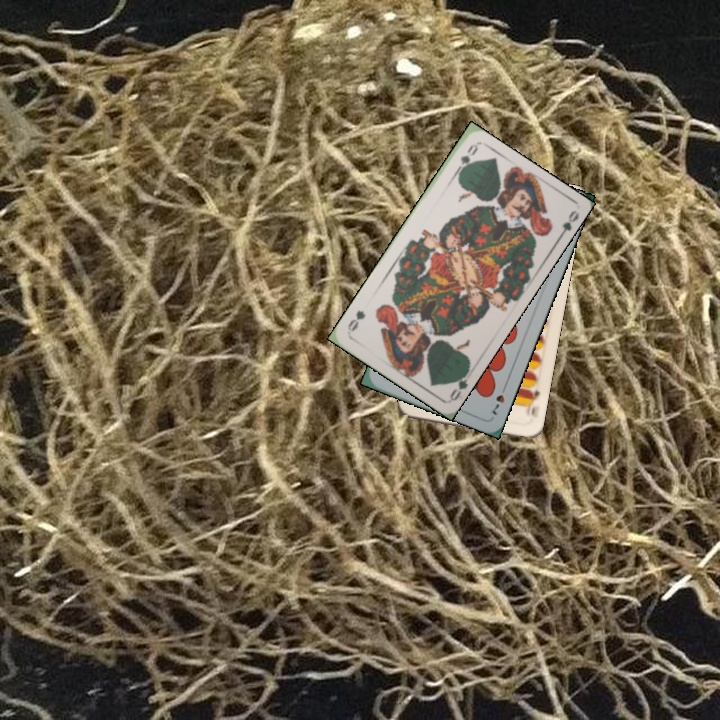E10: (522, 385, 542, 418)
GO: (450, 140, 480, 179), (446, 364, 473, 403)
H7: (488, 380, 510, 418)
